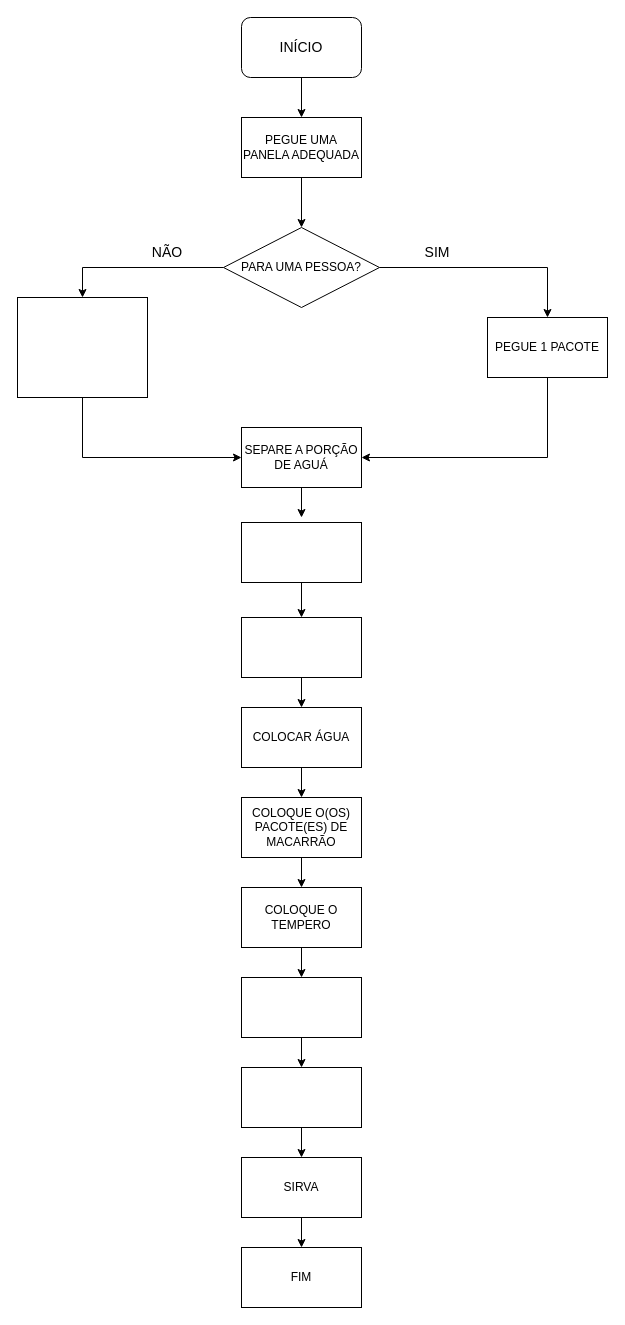
The diagram is 625 pixels wide and 1325 high, and some of its shapes have lost their labels. Here are the shapes that lost their labels. From the top down, the box of each, then its label:
(16, 296, 148, 398): PEGUE A QUANTIDADE DE PACOTES IGUAL AO NÚMERO DE PESSOAS
(240, 522, 362, 582): LIGAR O FOGÃO
(240, 616, 362, 678): COLOCAR PANELA
(240, 976, 362, 1038): AGUARDE 3 MINUTOS APÓS A ÁGUA COMEÇAR A FERVER
(240, 1066, 362, 1128): DESLIGUE O FOGÃO
